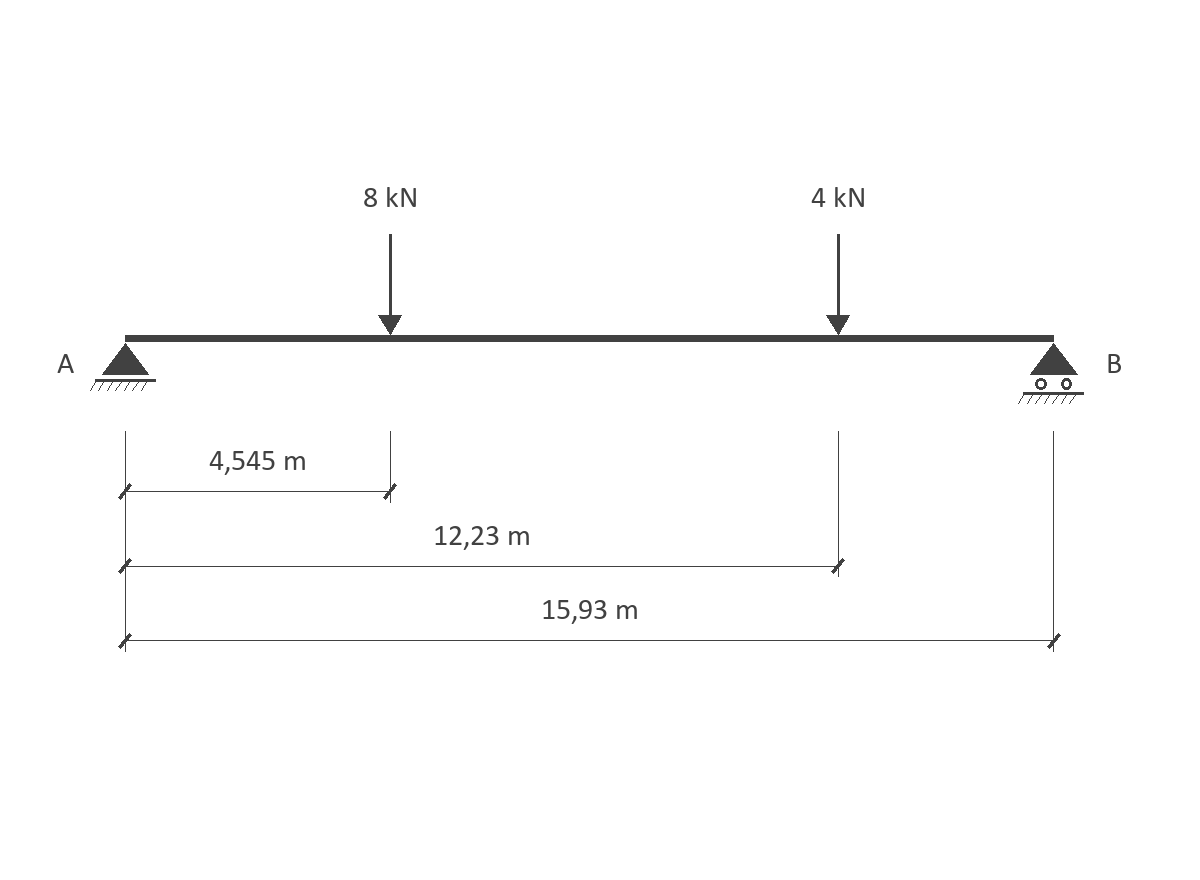pin_support: (90, 343, 156, 391)
point_load: (378, 234, 402, 335), (826, 234, 850, 335)
roller_support: (1018, 343, 1084, 404)
